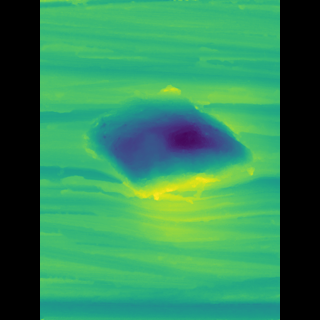Loch: (99, 80, 235, 213)
